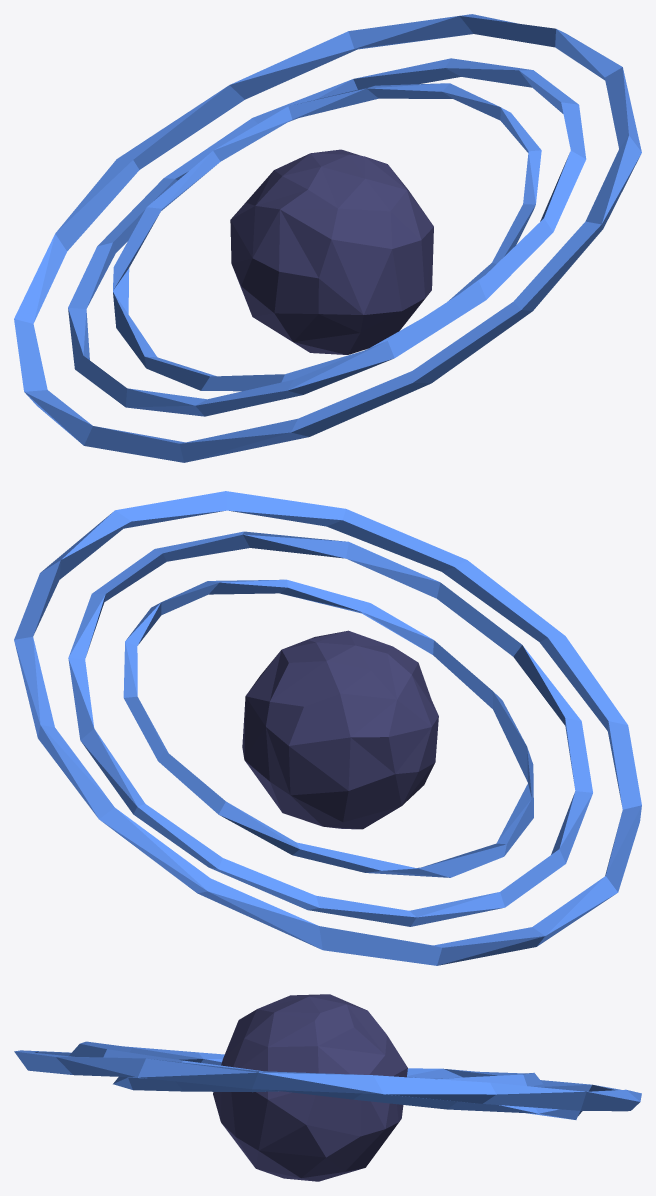
File: Planet4.fbx
3 views of the same model, one above another, from view 1: azimuth 30°, elevation 25°; view 2: azimuth 150°, elevation 25°; view 3: azimuth 270°, elevation 25° (orthographic). The views are drawn at different scales.
Parts seen in each view (by area): view 1: Planet4; view 2: Planet4; view 3: Planet4.
Part boxes in pixels (box(x1,y1,x2,y2)): Planet4: box(14, 14, 641, 462); Planet4: box(14, 491, 641, 965); Planet4: box(14, 994, 641, 1181).
Size of the model in its own units: 33.22 by 15.91 by 35.89.
